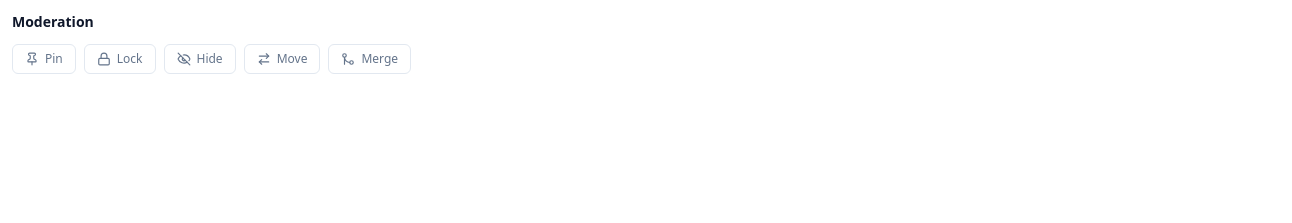
Test: ModerationActions › shows merge panel when Merge clicked
Click the button with test id "action-merge-toggle" at (370,59), box [328,44,411,74]
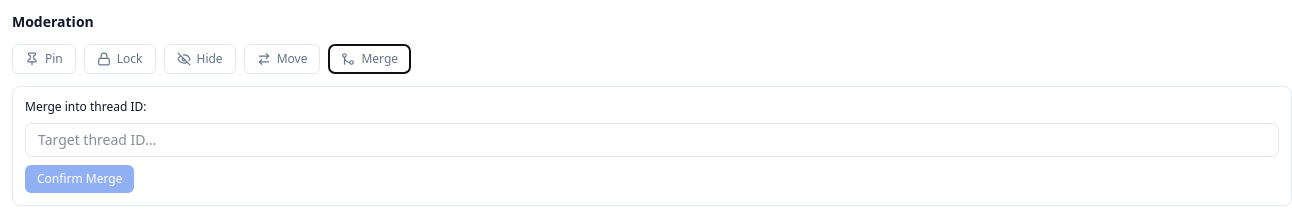
Now the element with test id "merge-panel" is shown, box [12,86,1291,206]
